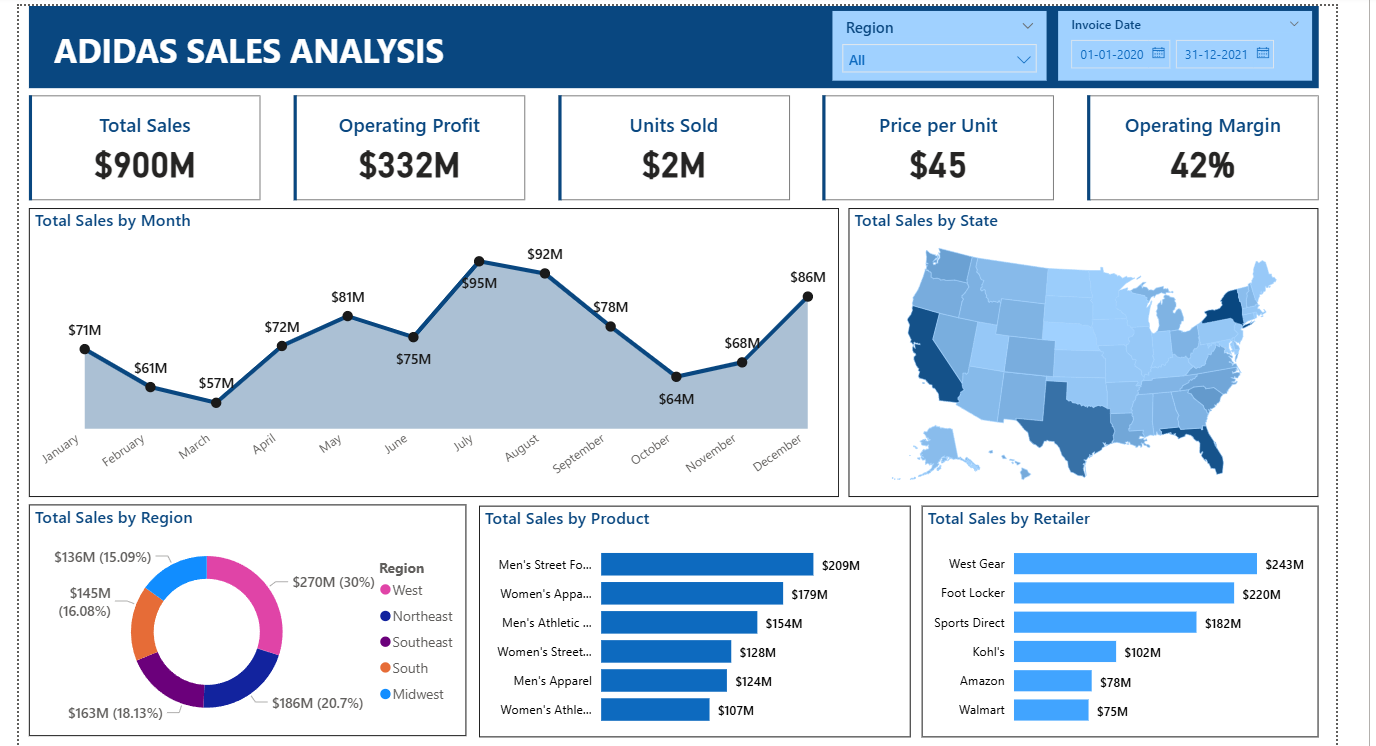

What the dashboard file says about the page in this screenshot:
{"tool":"powerbi","page":{"name":"Page 1","canvas":[1280,720],"ordinal":0},"visuals":[{"type":"textbox","box":[9.6,0,1253,79.5],"z":0},{"type":"textbox","box":[12,15.7,422.9,63.9],"z":1000},{"type":"cardVisual","fields":{"Data":["Sum(Data Sales Adidas.Total Sales)","Sum(Data Sales Adidas.Operating Profit)","Sum(Data Sales Adidas.Units Sold)","Avg(Data Sales Adidas.Price per Unit)","Avg(Data Sales Adidas.Operating Margin)"]},"box":[4.8,81.9,1266.3,112],"z":2000},{"type":"areaChart","title":"Total Sales by Month","fields":{"Category":["Data Sales Adidas.Invoice Date.Variation.Date Hierarchy.Month"],"Y":["Sum(Data Sales Adidas.Total Sales)"]},"box":[9.6,196.4,786.7,280.7],"z":3000},{"type":"shapeMap","fields":{"Category":["Data Sales Adidas.State"],"Value":["Sum(Data Sales Adidas.Total Sales)"]},"box":[806,196.4,456.6,280.7],"z":4000},{"type":"donutChart","fields":{"Category":["Data Sales Adidas.Region"],"Y":["Sum(Data Sales Adidas.Total Sales)"]},"box":[9.6,484.3,425.3,225.3],"z":5000},{"type":"barChart","fields":{"Category":["Data Sales Adidas.Product"],"Y":["Sum(Data Sales Adidas.Total Sales)"]},"box":[447,485.5,419.3,225.3],"z":6000},{"type":"barChart","fields":{"Y":["Sum(Data Sales Adidas.Total Sales)"],"Category":["Data Sales Adidas.Retailer"]},"box":[877.1,485.5,385.5,225.3],"z":7000},{"type":"slicer","fields":{"Values":["Data Sales Adidas.Region"]},"box":[790.4,4.8,208.4,67.5],"z":7001},{"type":"slicer","fields":{"Values":["Data Sales Adidas.Invoice Date"]},"box":[1009.6,4.8,247,67.5],"z":7002}]}

Visuals, with their boxes in screenshot pixels (x1, y1, x2, y2):
textbox: [left=28, top=4, right=1307, bottom=85]
textbox: [left=30, top=20, right=462, bottom=85]
cardVisual - Sum(Data Sales Adidas.Total Sales) x Sum(Data Sales Adidas.Operating Profit): [left=23, top=87, right=1316, bottom=202]
"Total Sales by Month" areaChart: [left=28, top=204, right=831, bottom=491]
shapeMap - Data Sales Adidas.State x Sum(Data Sales Adidas.Total Sales): [left=841, top=204, right=1307, bottom=491]
donutChart - Data Sales Adidas.Region x Sum(Data Sales Adidas.Total Sales): [left=28, top=498, right=462, bottom=728]
barChart - Data Sales Adidas.Product x Sum(Data Sales Adidas.Total Sales): [left=474, top=499, right=902, bottom=729]
barChart - Sum(Data Sales Adidas.Total Sales) x Data Sales Adidas.Retailer: [left=913, top=499, right=1307, bottom=729]
slicer - Data Sales Adidas.Region: [left=825, top=8, right=1038, bottom=77]
slicer - Data Sales Adidas.Invoice Date: [left=1049, top=8, right=1301, bottom=77]
